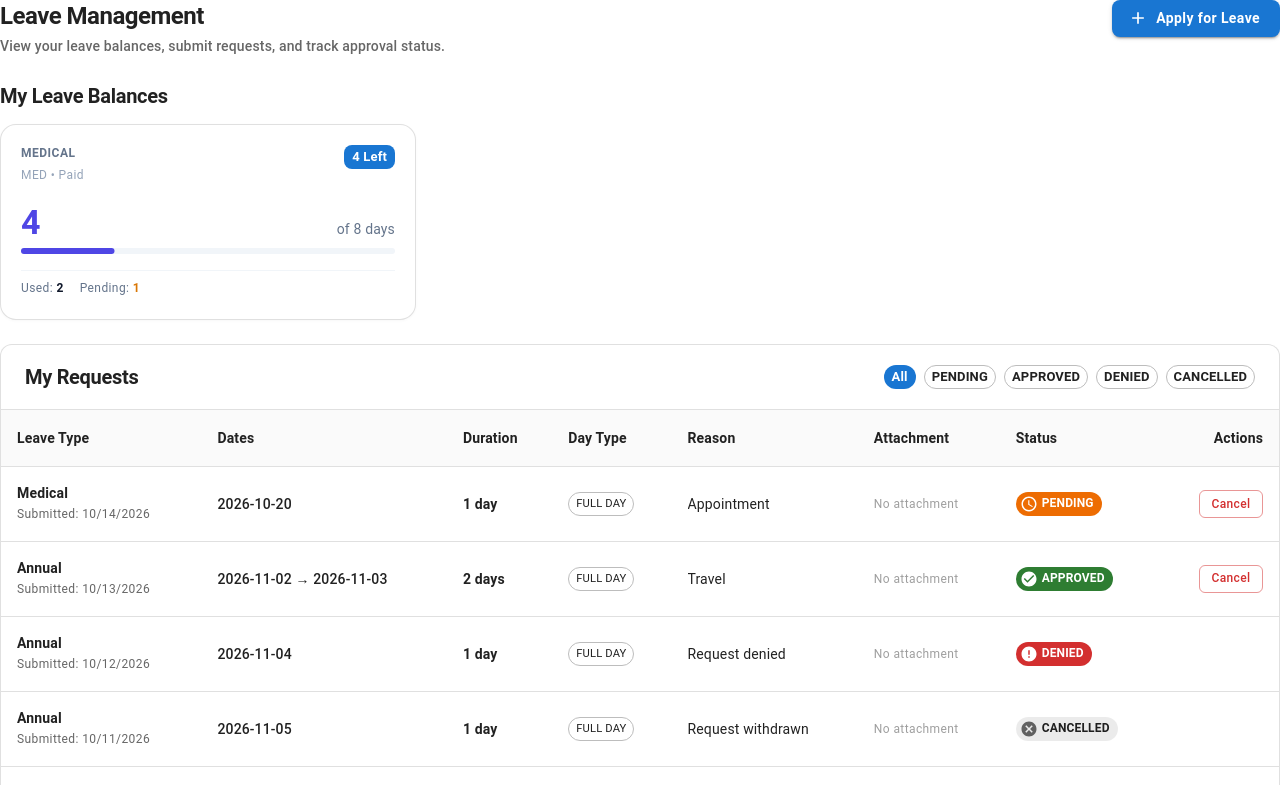
keeps the user informed when leave cancellation is rejected by the server
The image size is (1280, 785).
Expected: the text "Appointment" is shown, [688,496,770,512]
Click the button "Cancel" in the row of "10/14/2026": x=1231, y=504 [1199,490,1263,518]
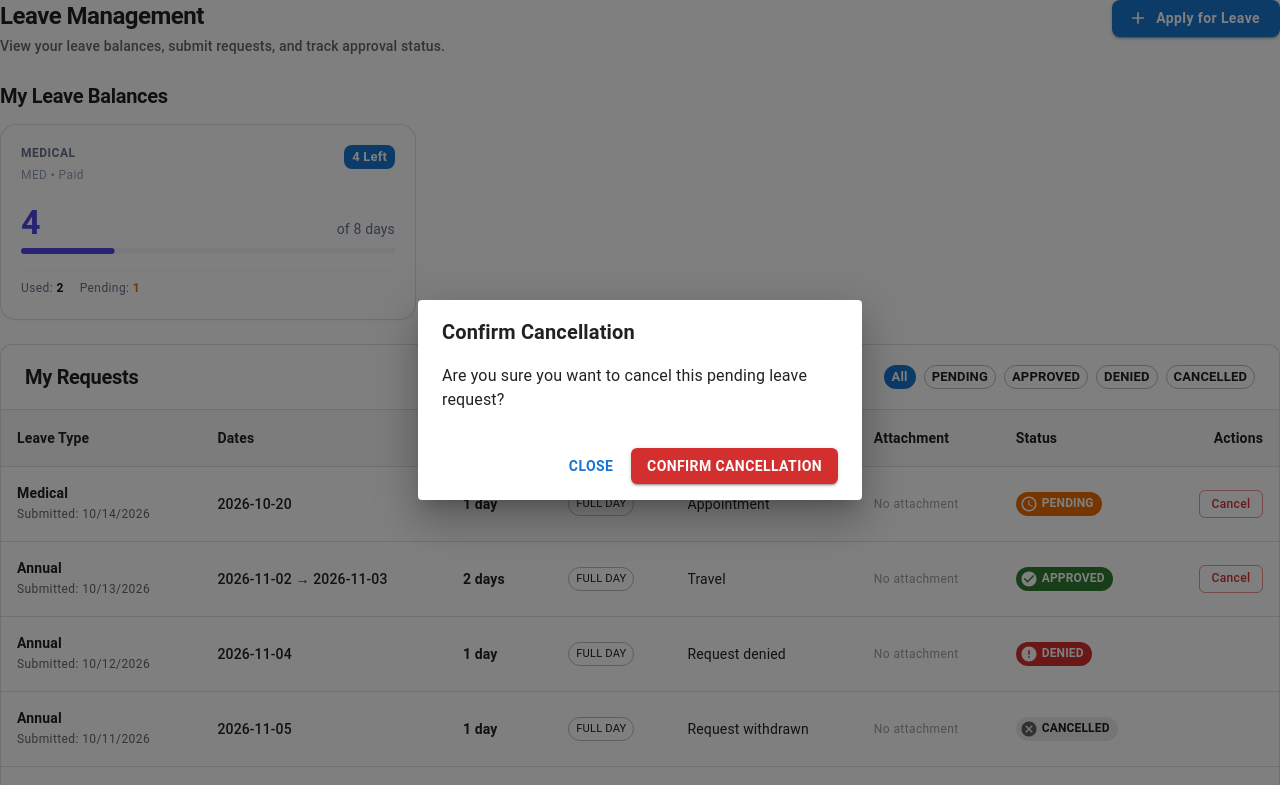
Click the button "Confirm Cancellation": x=735, y=466 [631,448,838,484]
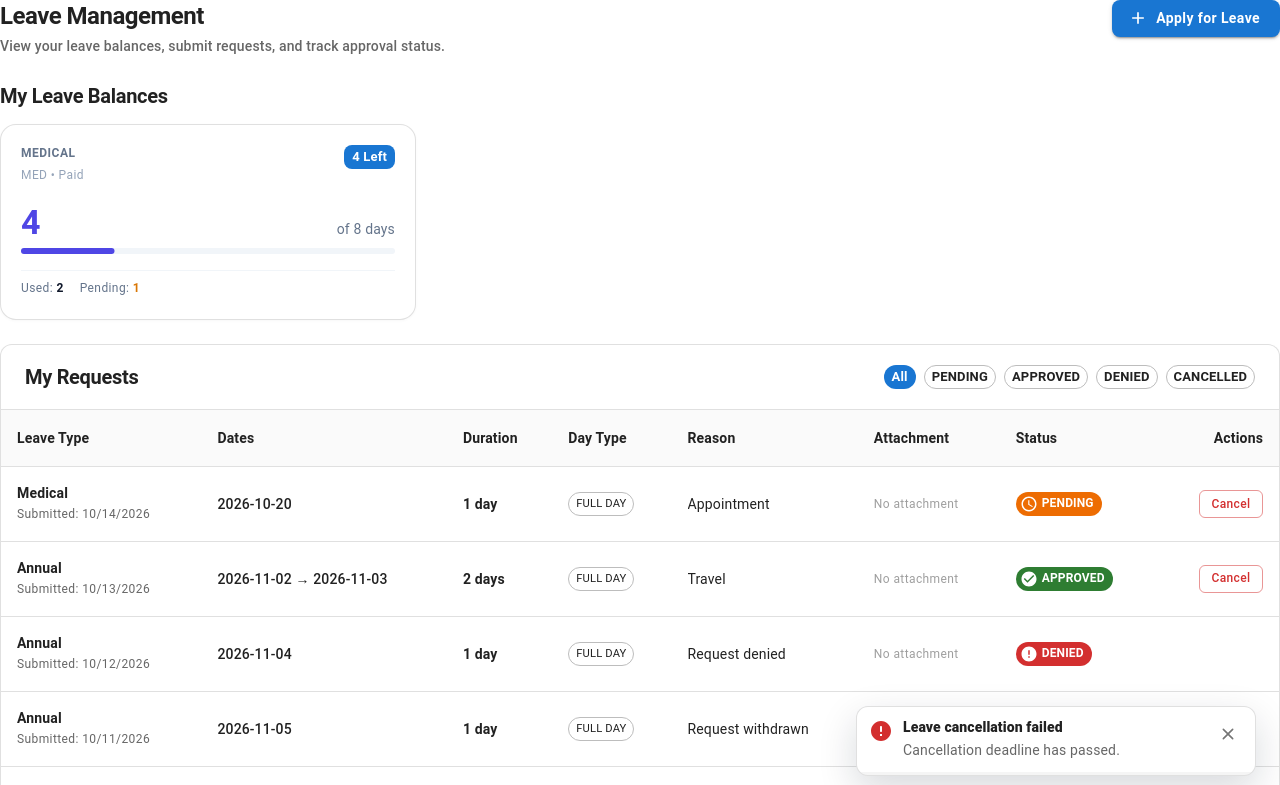
Expected: the text "Appointment" is shown, [688,496,770,512]
Expected: the text "Cancellation deadline has passed." is shown, [903,742,1120,758]
Expected: the heading "Confirm Cancellation" is gone
